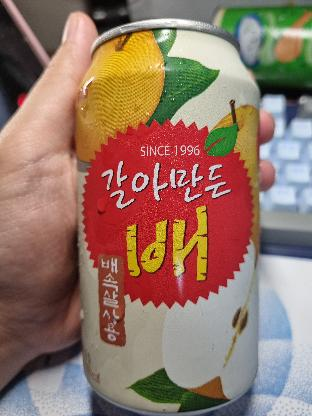Can: (78, 24, 272, 416)
